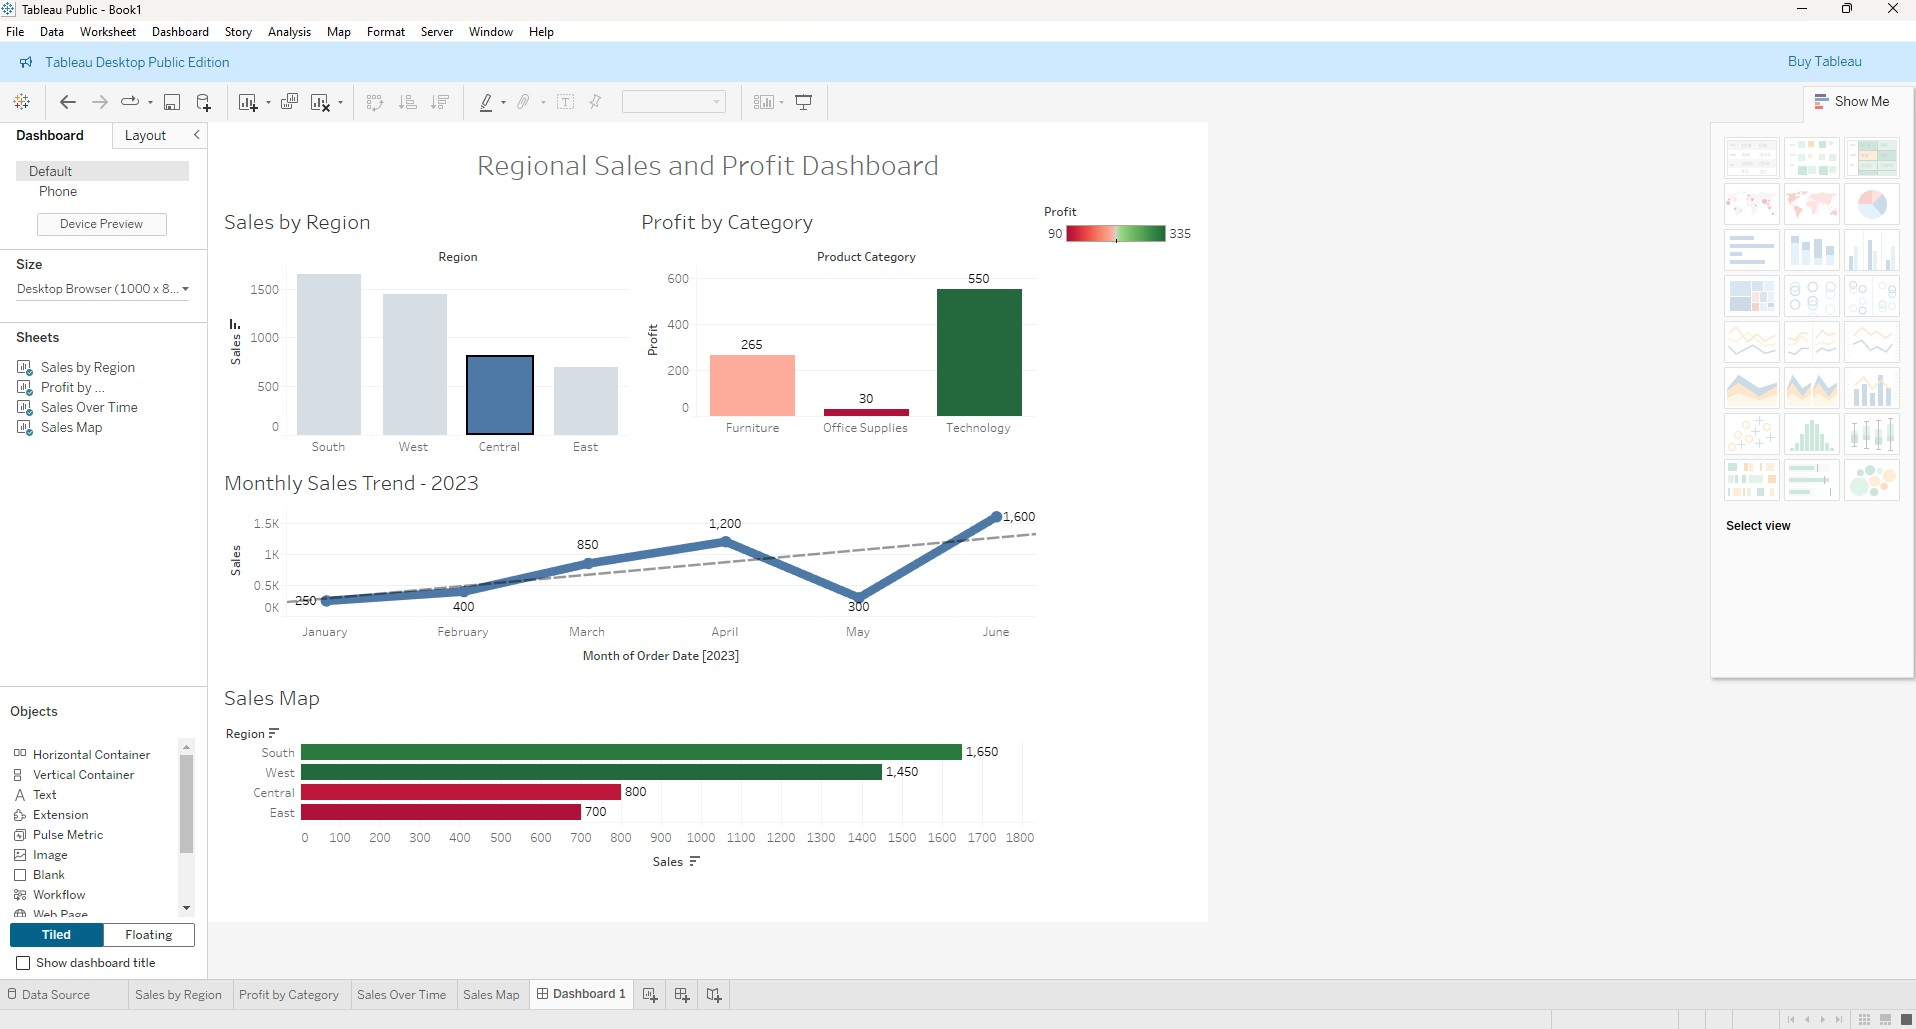

The page's visual inventory and layout, read from the dashboard file:
{"tool":"tableau","page":{"name":"Dashboard 1","canvas":[1000,800],"ordinal":0},"visuals":[{"type":"text","box":[8,8,984,69]},{"type":"worksheet","title":"Sales by Region","mark":"Automatic","rows":["Sales"],"cols":["Region"],"box":[8,77,417,261.2]},{"type":"worksheet","title":"Profit by Category","mark":"Automatic","rows":["Profit"],"cols":["Product Category"],"box":[425,77,407,261.2]},{"type":"legend","title":"Sales Map","param":"[federated.1o2r5mu0wcjz2o1g7a14e0v2ydir].[sum:Profit:qk]","box":[832,77,160,65]},{"type":"worksheet","title":"Sales Over Time","mark":"Line","rows":["Sales"],"cols":["Order Date"],"box":[8,338.2,824,214.8]},{"type":"worksheet","title":"Sales Map","mark":"Automatic","rows":["Region"],"cols":["Sales"],"box":[8,553,824,239]}]}

Visuals, with their boxes on the page's 1000x800 design canvas (x1, y1, x2, y2). These are canvas units, not pixel positions in the 1916x1029 screenshot, which may show the page scaled, cropped or inside an application window:
text: detection(8, 8, 992, 77)
"Sales by Region" worksheet: detection(8, 77, 425, 338)
"Profit by Category" worksheet: detection(425, 77, 832, 338)
"Sales Map" legend: detection(832, 77, 992, 142)
"Sales Over Time" worksheet (Line marks): detection(8, 338, 832, 553)
"Sales Map" worksheet: detection(8, 553, 832, 792)
